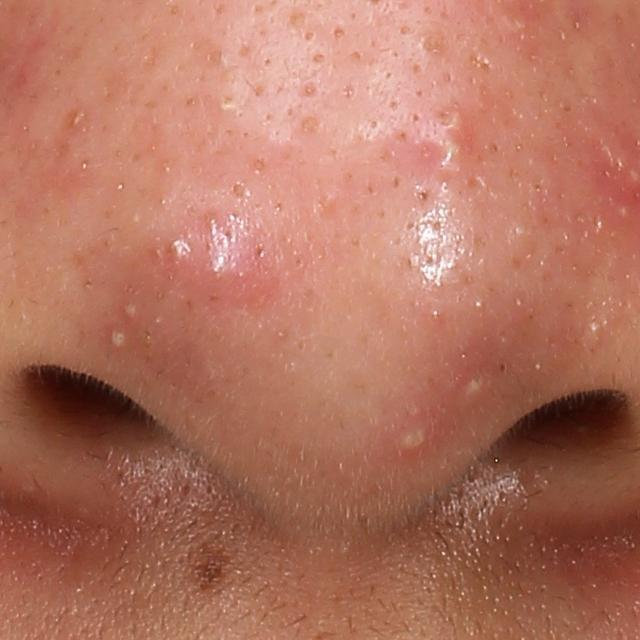comedo: (415, 31, 446, 61), (297, 73, 325, 102), (228, 179, 254, 204), (297, 114, 324, 138), (309, 49, 329, 68), (216, 93, 236, 112), (330, 23, 350, 41), (298, 26, 319, 43), (396, 21, 415, 37)
nevus: (187, 525, 232, 604)
pustule: (400, 420, 433, 455), (162, 233, 195, 264), (455, 371, 485, 403), (105, 324, 130, 351), (120, 301, 137, 318)
